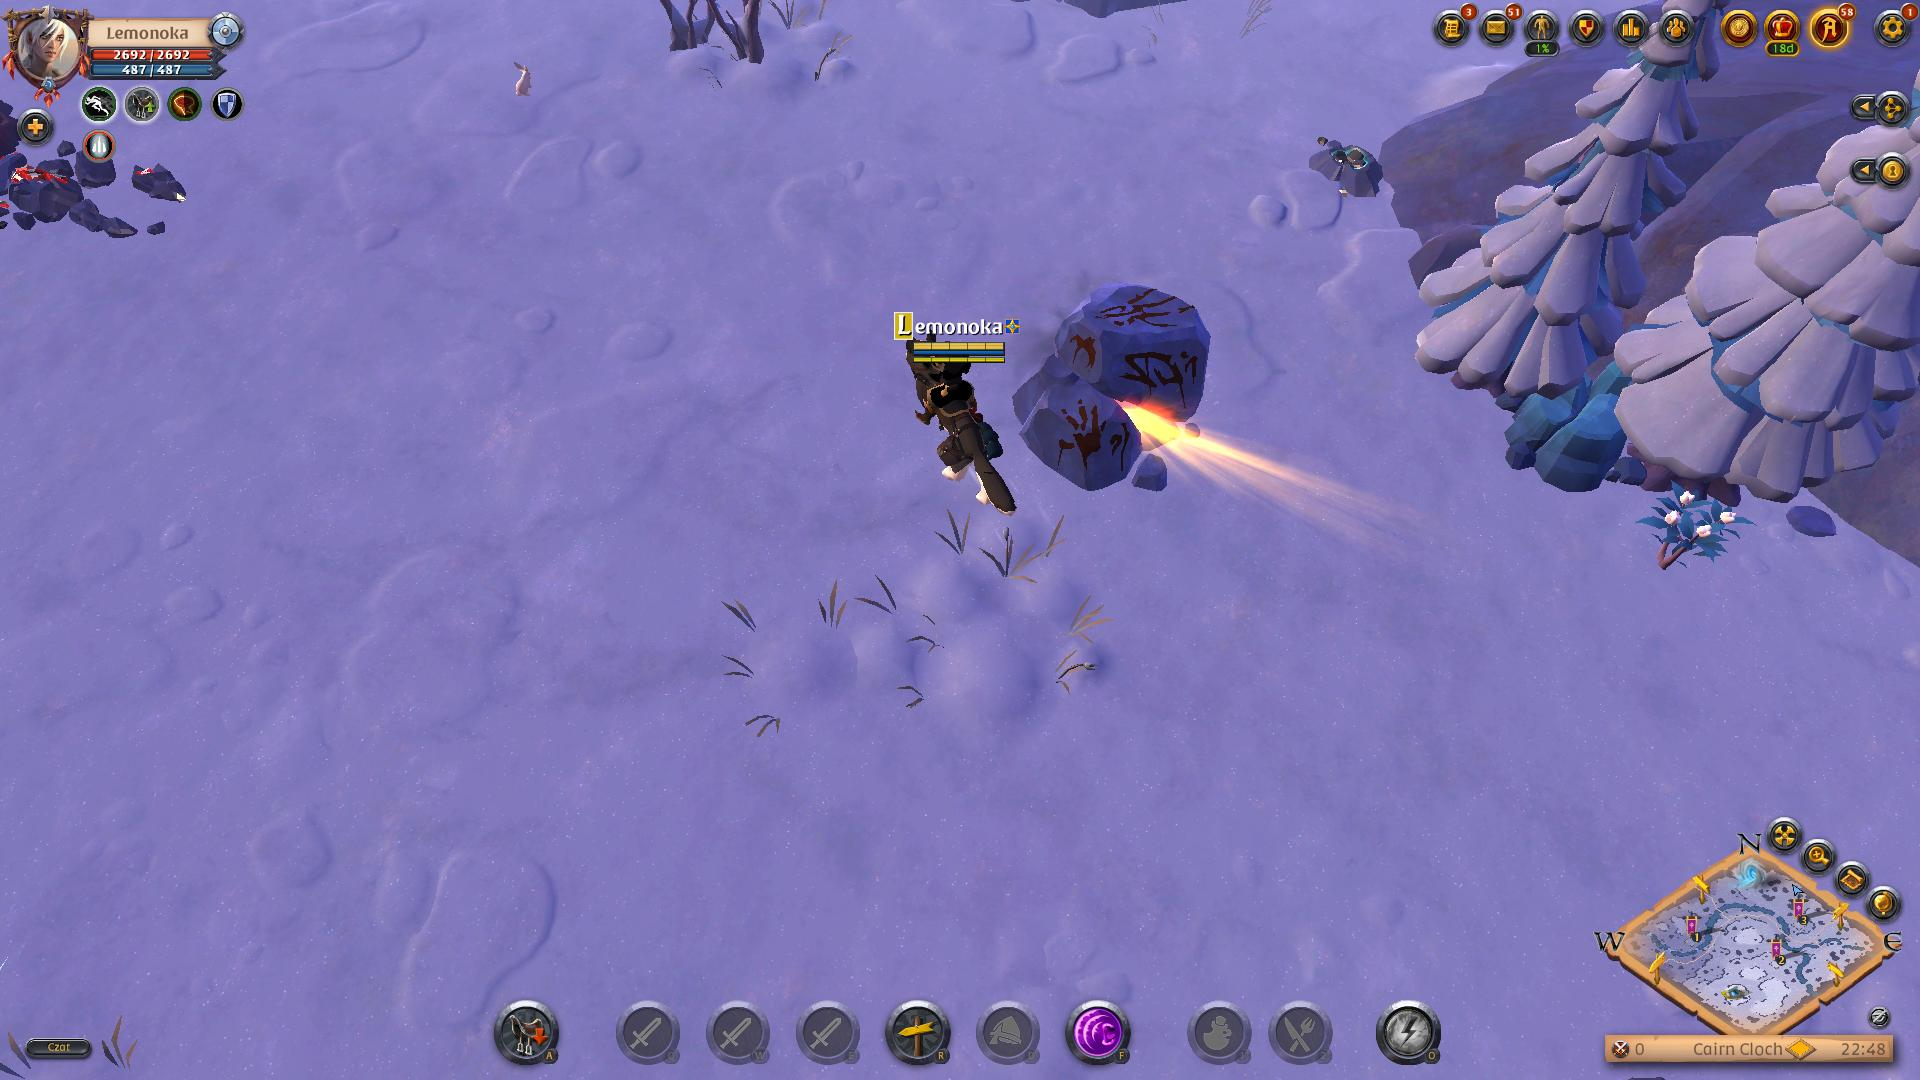fiber tier 4: (1643, 487, 1745, 582)
